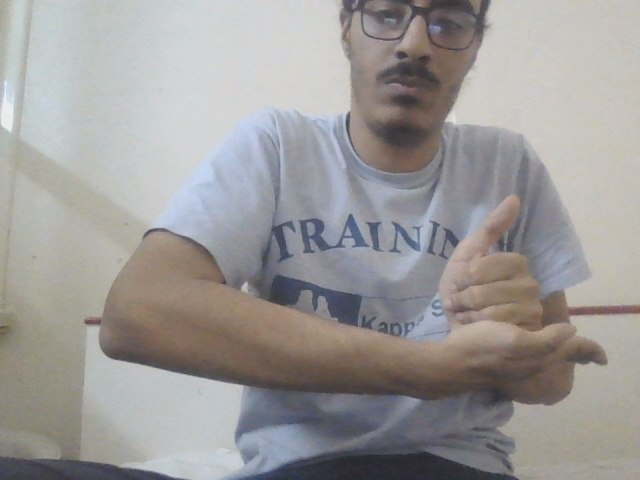Help: (436, 190, 607, 418)
